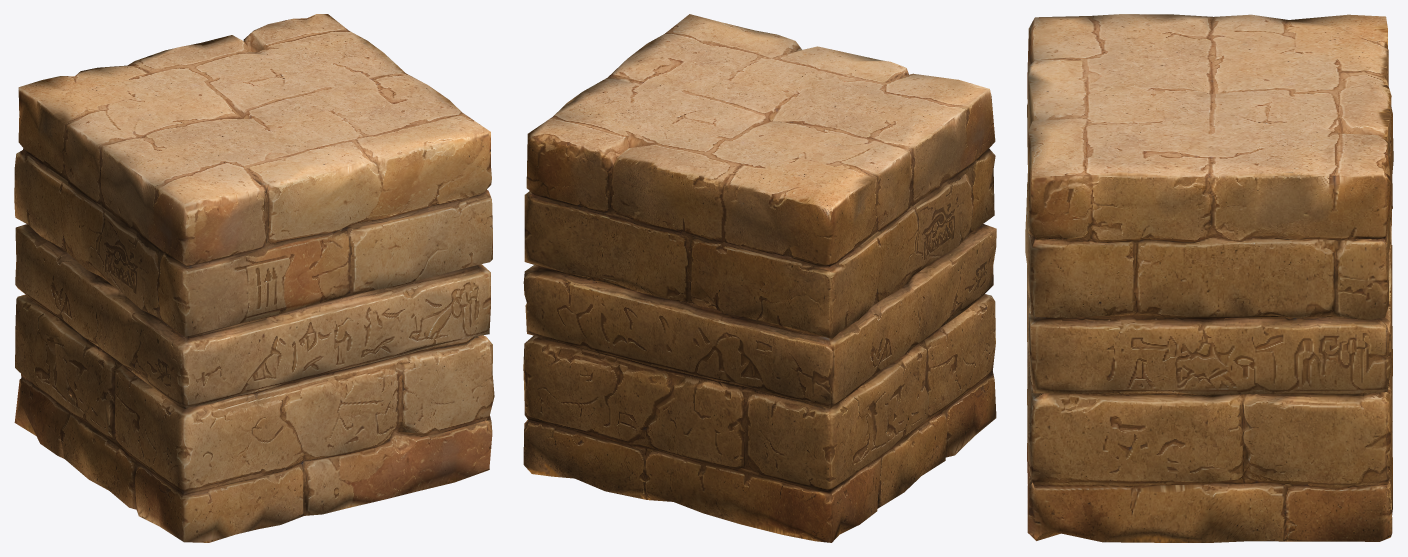
The model's file is Tile_Desert_Wall.fbx.
3 renders of one model, left to right at view 1: azimuth 30°, elevation 25°; view 2: azimuth 150°, elevation 25°; view 3: azimuth 270°, elevation 25°, orthographic. The views are drawn at different scales.
Visible parts, largest first — view 1: texture_mapping; view 2: texture_mapping; view 3: texture_mapping.
Boxes of the visible parts, bbox=[...] form: texture_mapping: bbox=[14, 14, 494, 542]; texture_mapping: bbox=[523, 14, 996, 542]; texture_mapping: bbox=[1025, 14, 1393, 542].
Bounding box in the file's own units: 0.9669 × 0.9036 × 0.999.
Materials: 1 (1 with a texture image).
